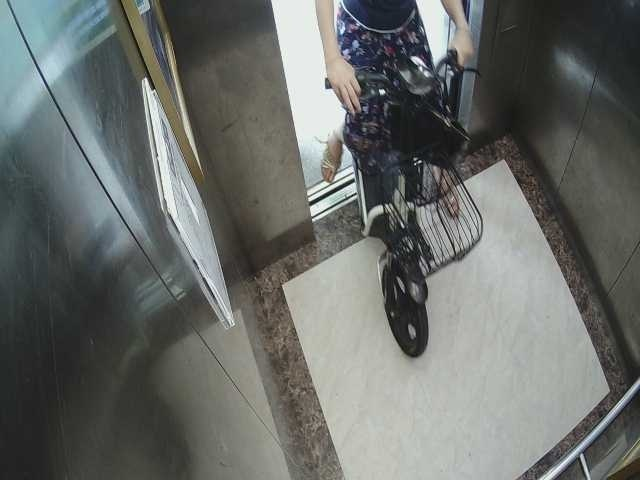emotor: (322, 48, 473, 358)
